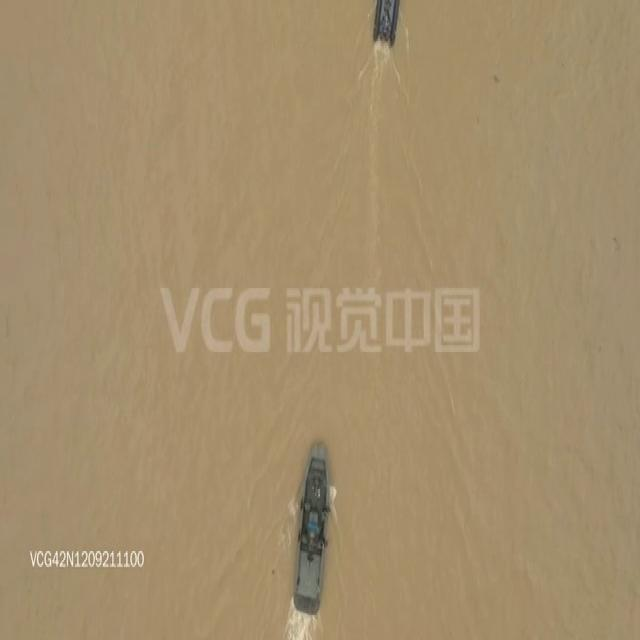houseboat: (293, 429, 332, 614), (371, 0, 400, 44)
